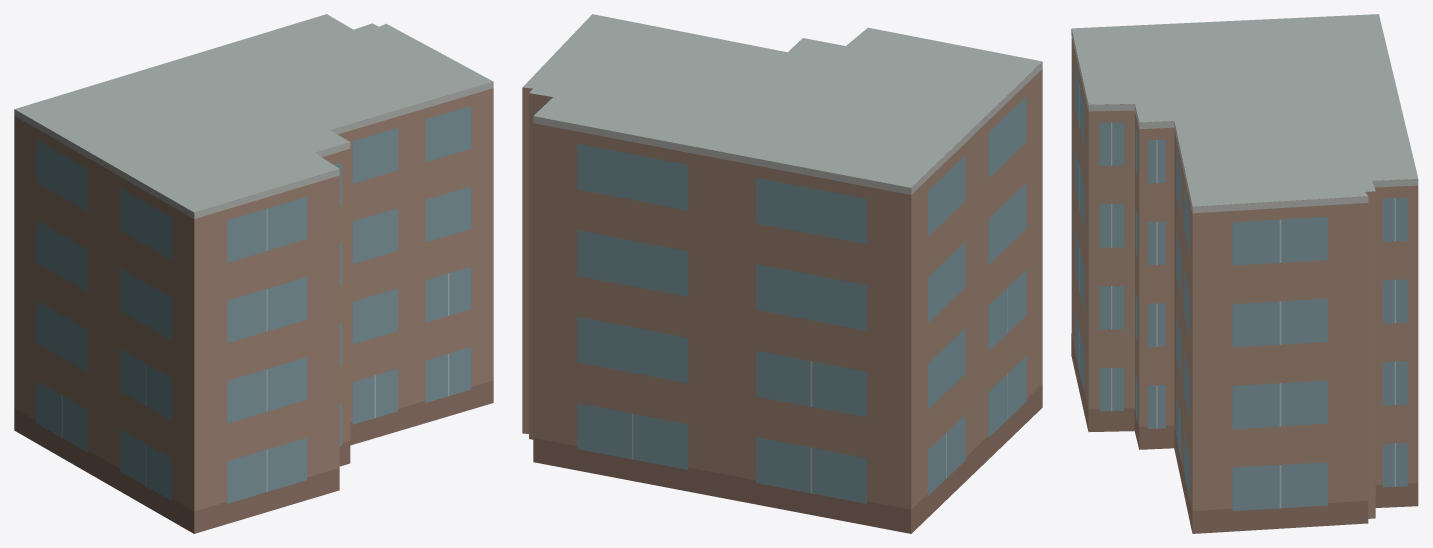
The model's file is survey-upis-32586969.glb.
The picture shows the model from 3 angles, left to right: view 1: azimuth 30°, elevation 25°; view 2: azimuth 150°, elevation 25°; view 3: azimuth 270°, elevation 25°; orthographic projection. The views are drawn at different scales.
Parts seen in each view (by area): view 1: survey-upis-32586969.tmp; view 2: survey-upis-32586969.tmp; view 3: survey-upis-32586969.tmp.
Boxes of the visible parts, left/top/right/bottom form: survey-upis-32586969.tmp: left=14, top=14, right=493, bottom=533; survey-upis-32586969.tmp: left=522, top=14, right=1042, bottom=533; survey-upis-32586969.tmp: left=1071, top=14, right=1418, bottom=533.
Size of the model in its own units: 15.03 by 11.9 by 11.44.
